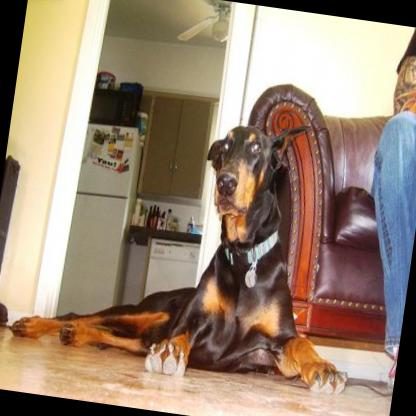Doberman: (6, 87, 382, 398)
